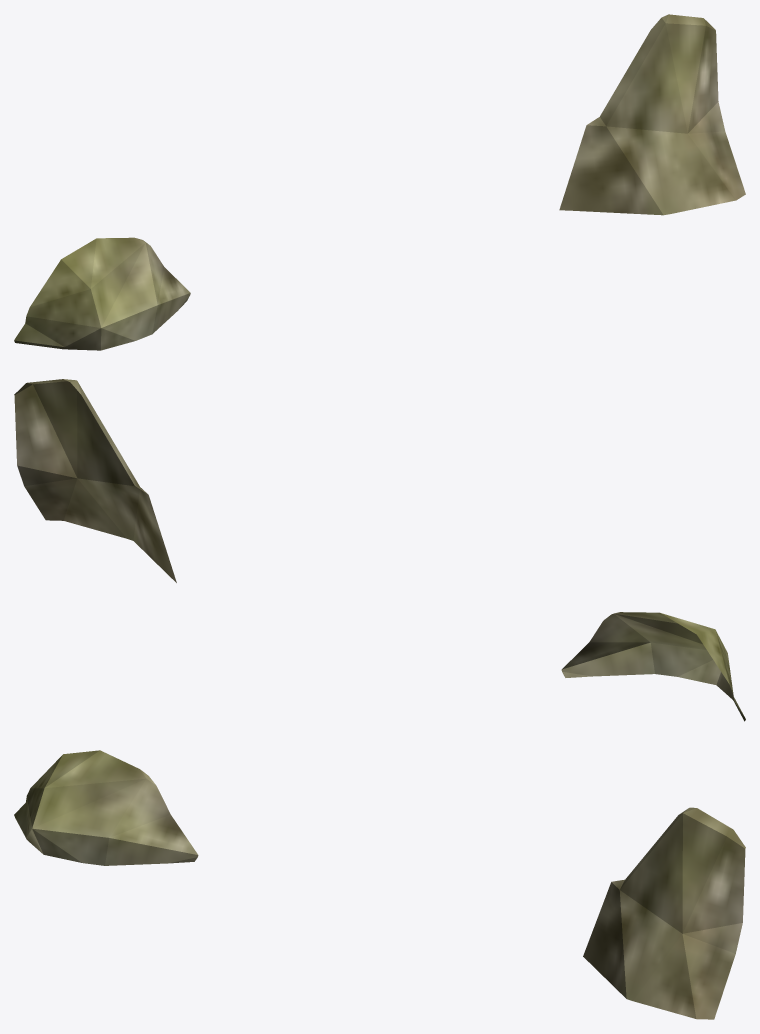
The picture shows the model from 3 angles, top to bottom: view 1: azimuth 30°, elevation 25°; view 2: azimuth 150°, elevation 25°; view 3: azimuth 330°, elevation 25°; orthographic projection. The views are drawn at different scales.
Bounding box in the file's own units: 1.65 × 0.38 × 0.1424.
Materials: 1 (1 with a texture image).
